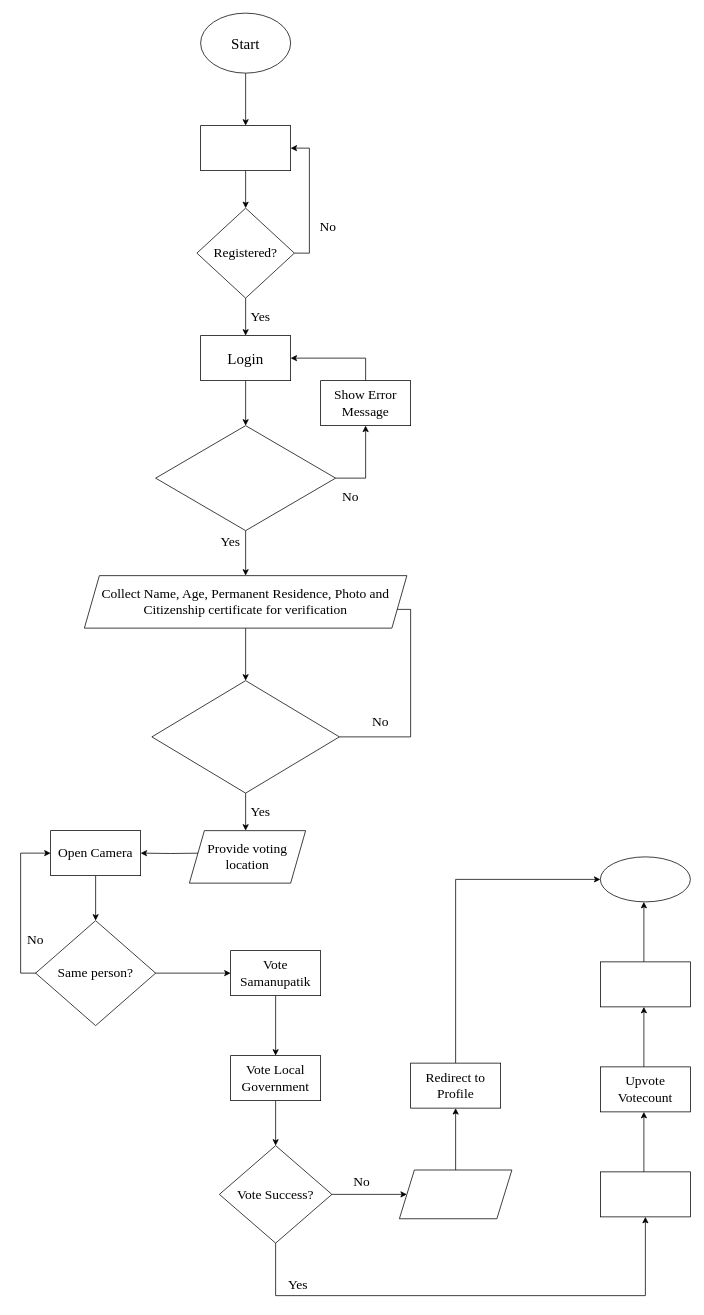
This 704x1315 diagram has some shape labels left out. The centre of each missing label's shape, as x and y in pixels:
"Details checked manually whether they are correct" belongs at (245,736).
"Display Error Message" belongs at (455,1194).
"End" belongs at (645,879).
"Register" belongs at (245,148).
"Save to Database" belongs at (645,1194).
"Show Confirmation" belongs at (645,984).
"Username and password correct?" belongs at (245,478).
